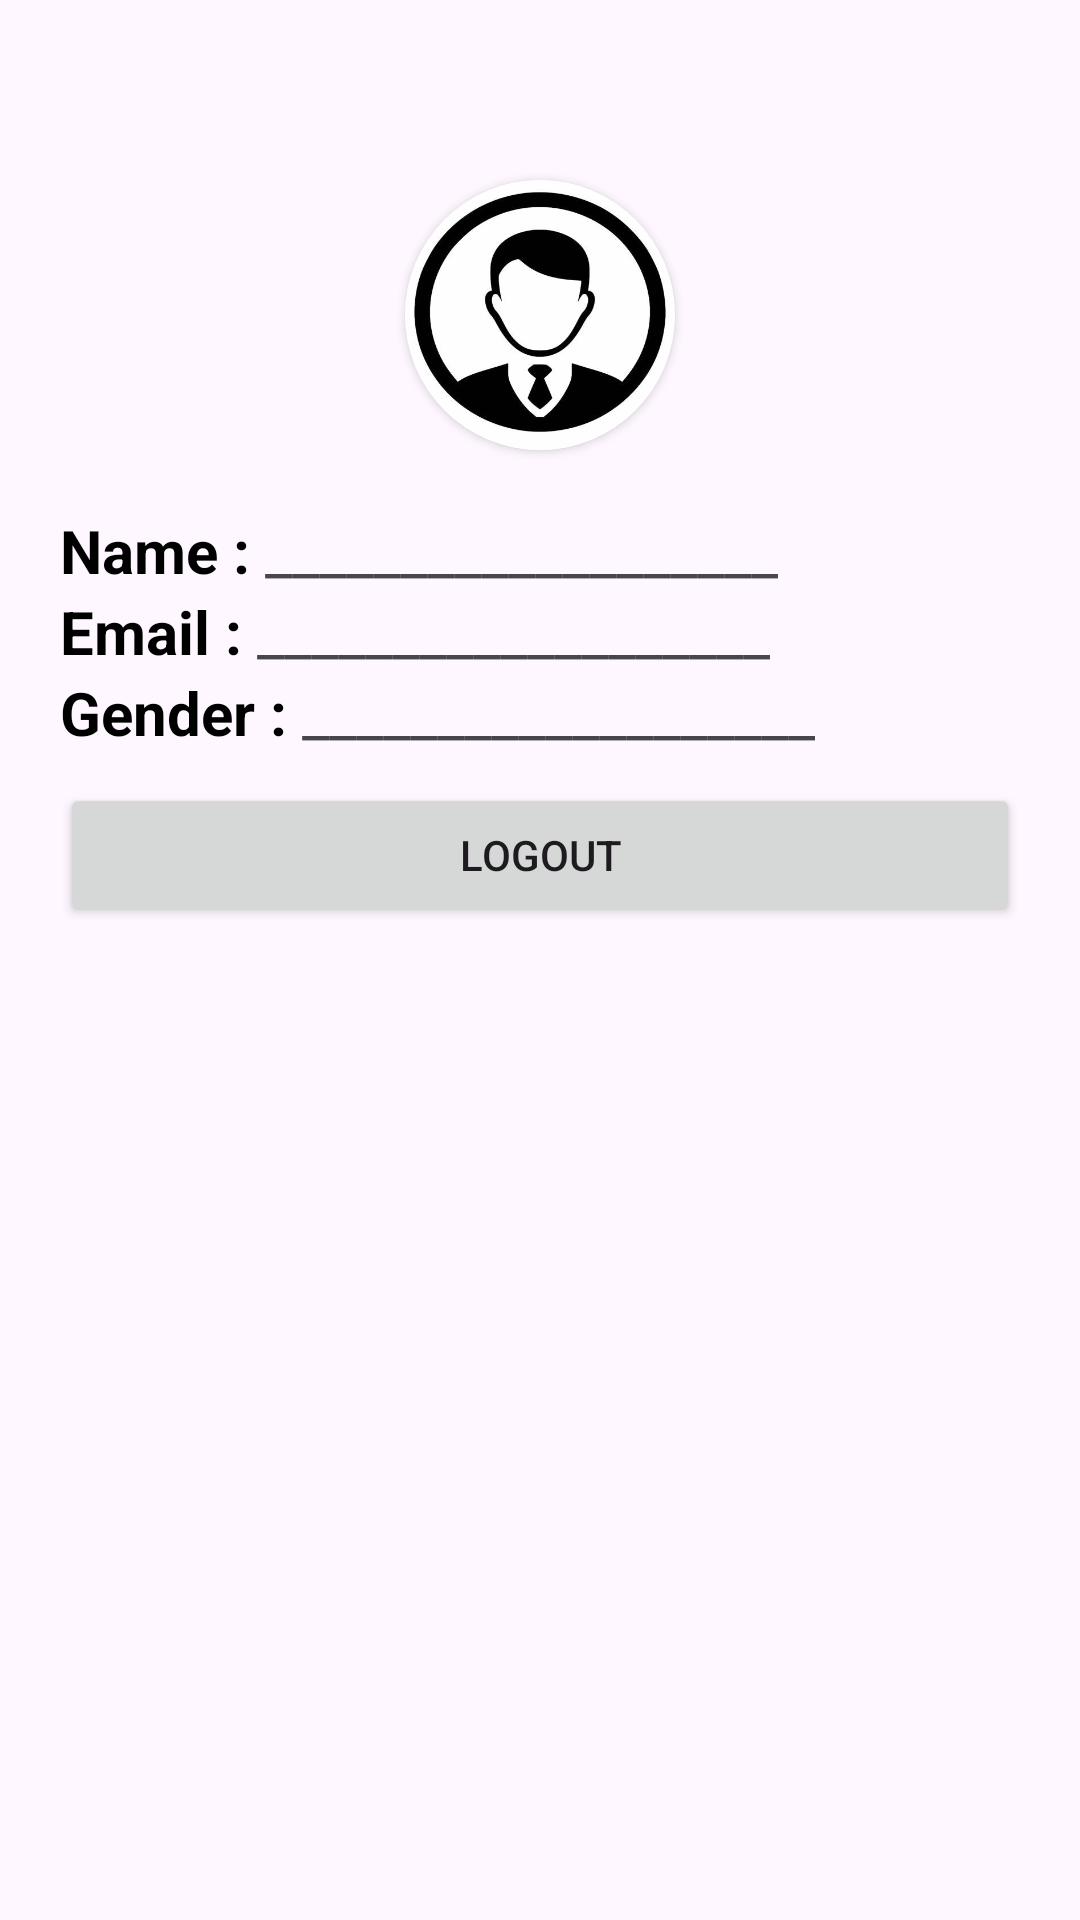

Named icons in this screenshot (1080*1920) and their centers, (x,y):
user: (540,321)
